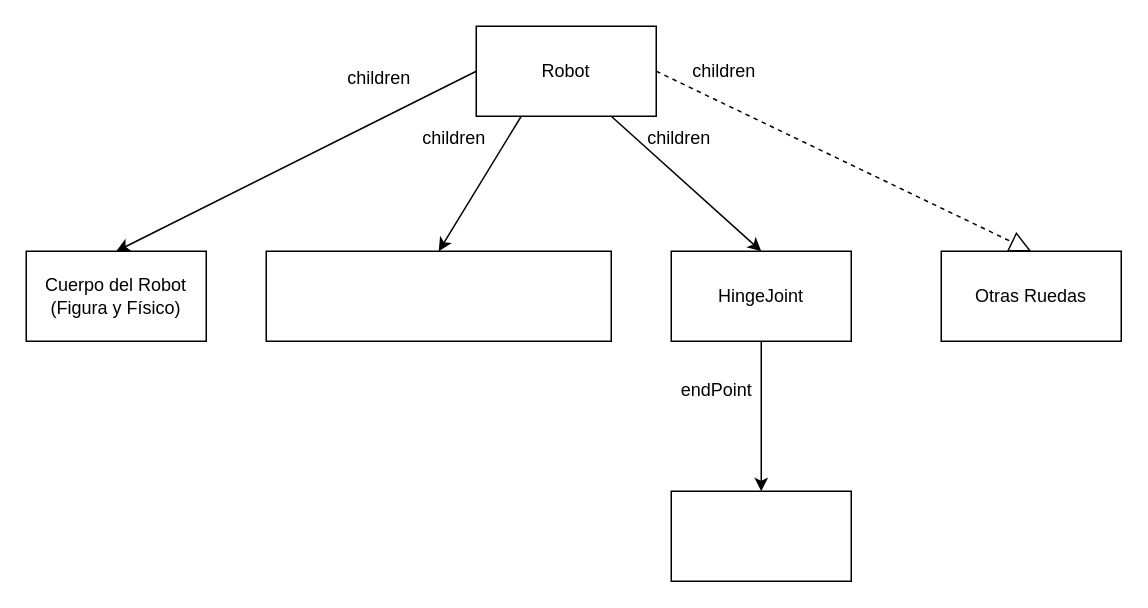
Image size: 1148x608. Some labels were removed from this diagram. The shapes that lost their labels are listed below. From the top down, each one's centre as x and y in pixels, then its label:
point 438,295: Sensores (LIDAR, IMU, GPS Sensor de Distancia)
point 760,535: DEF Rueda Solid (Rueda Física)
